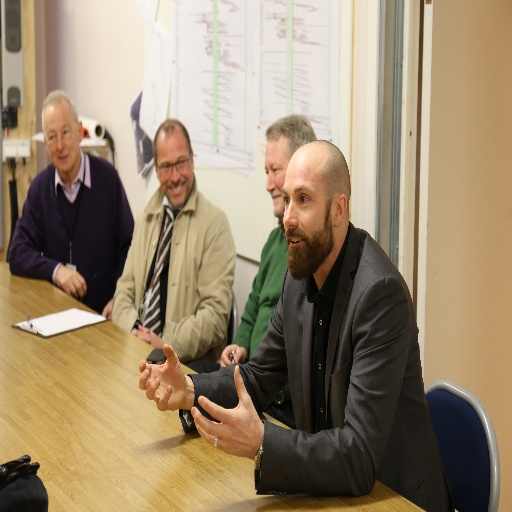hand: (192, 376, 266, 464), (138, 339, 188, 414), (57, 267, 87, 298), (219, 342, 245, 370), (137, 323, 164, 349), (130, 329, 154, 346), (101, 300, 112, 321)
